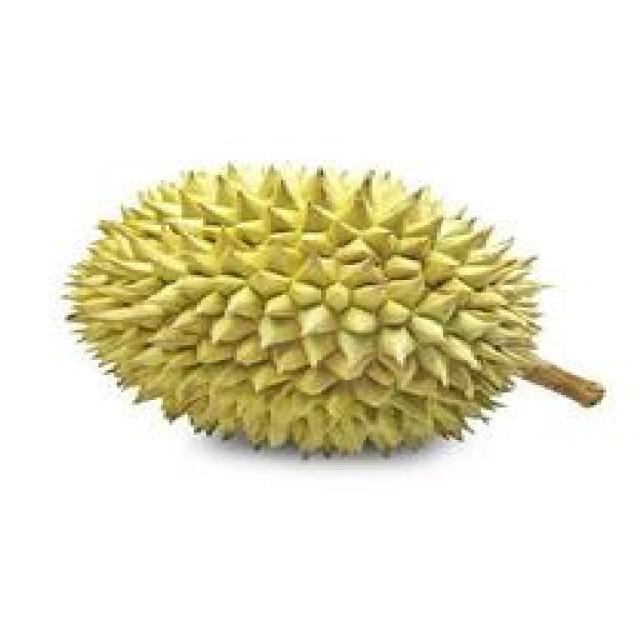Fruit: (141, 188, 517, 622), (62, 87, 483, 405)
